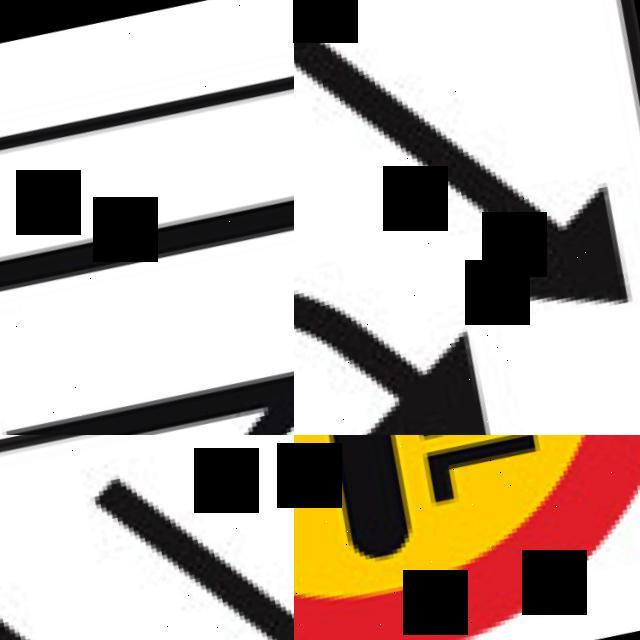169: (0, 0, 294, 435), (0, 435, 294, 640)
170: (294, 0, 640, 435)
Stop at customs: (294, 435, 640, 640)
